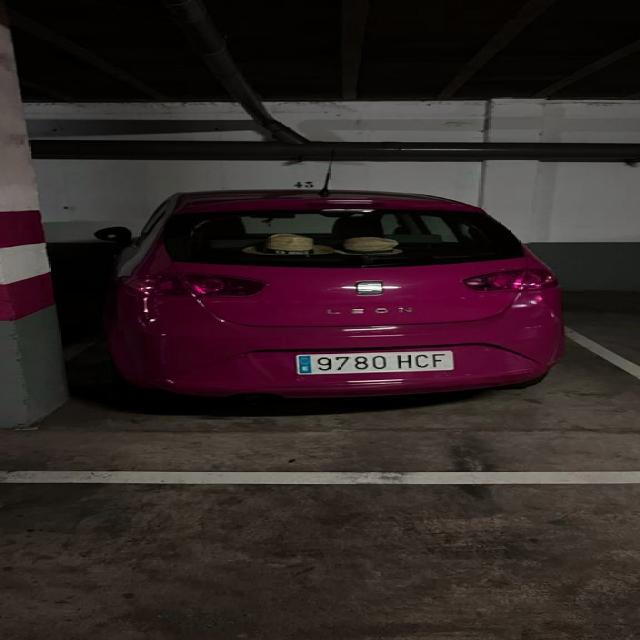License-Plate: (295, 349, 457, 375)
